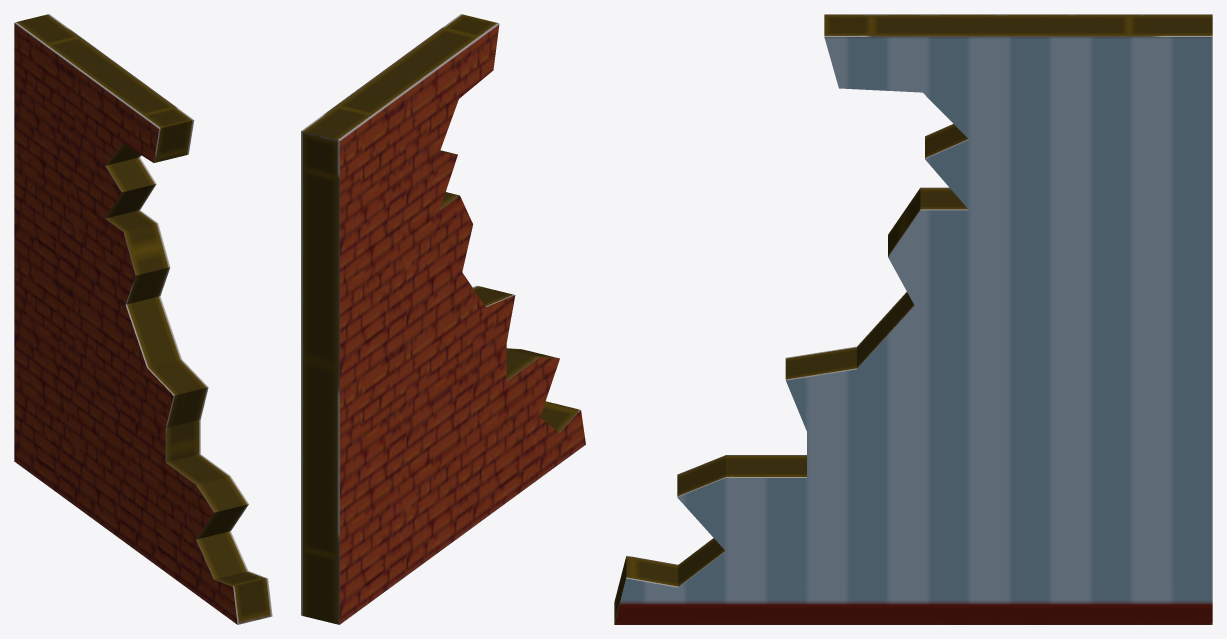
The model's file is Wall_Broken_L_04.fbx.
3 renders of one model, left to right at view 1: azimuth 30°, elevation 25°; view 2: azimuth 150°, elevation 25°; view 3: azimuth 270°, elevation 25°, orthographic. The views are drawn at different scales.
Parts seen in each view (by area): view 1: Wall_Broken_L_04; view 2: Wall_Broken_L_04; view 3: Wall_Broken_L_04.
Part boxes in pixels (x1,y1,x2,y2): Wall_Broken_L_04: [14, 14, 272, 624]; Wall_Broken_L_04: [301, 14, 585, 624]; Wall_Broken_L_04: [614, 14, 1212, 624].
Size of the model in its own units: 50 by 600 by 553.
